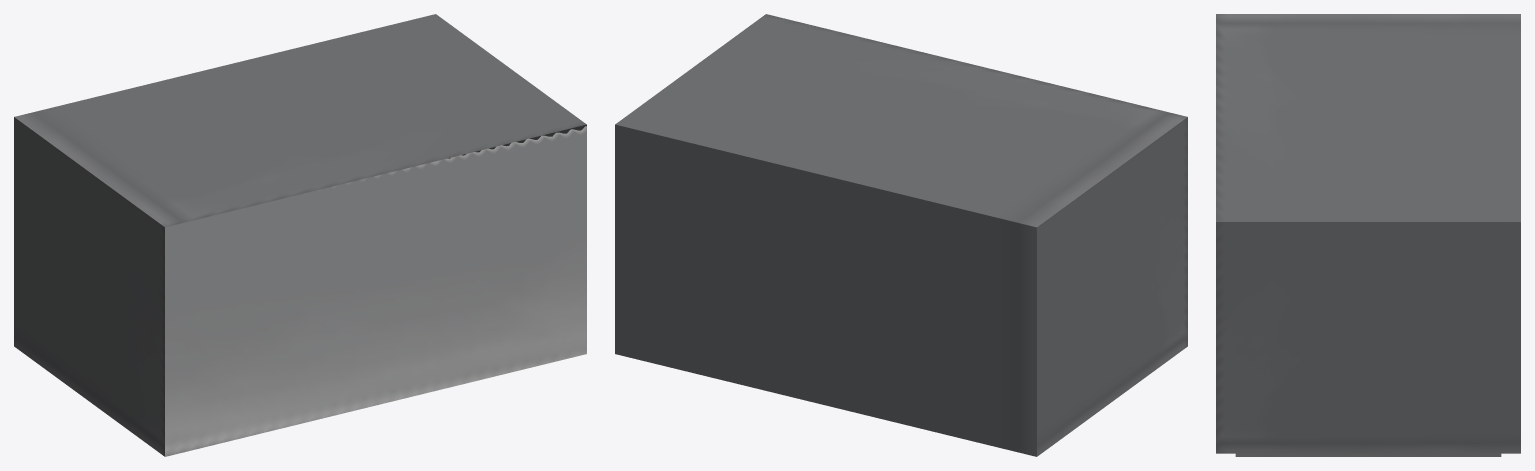
File: pz_counter_steel_wall.obj
The picture shows the model from 3 angles, left to right: view 1: azimuth 30°, elevation 25°; view 2: azimuth 150°, elevation 25°; view 3: azimuth 270°, elevation 25°; orthographic projection.
Size of the model in its own units: 1 by 0.536 by 0.62.
Materials: 1 (1 with a texture image).
